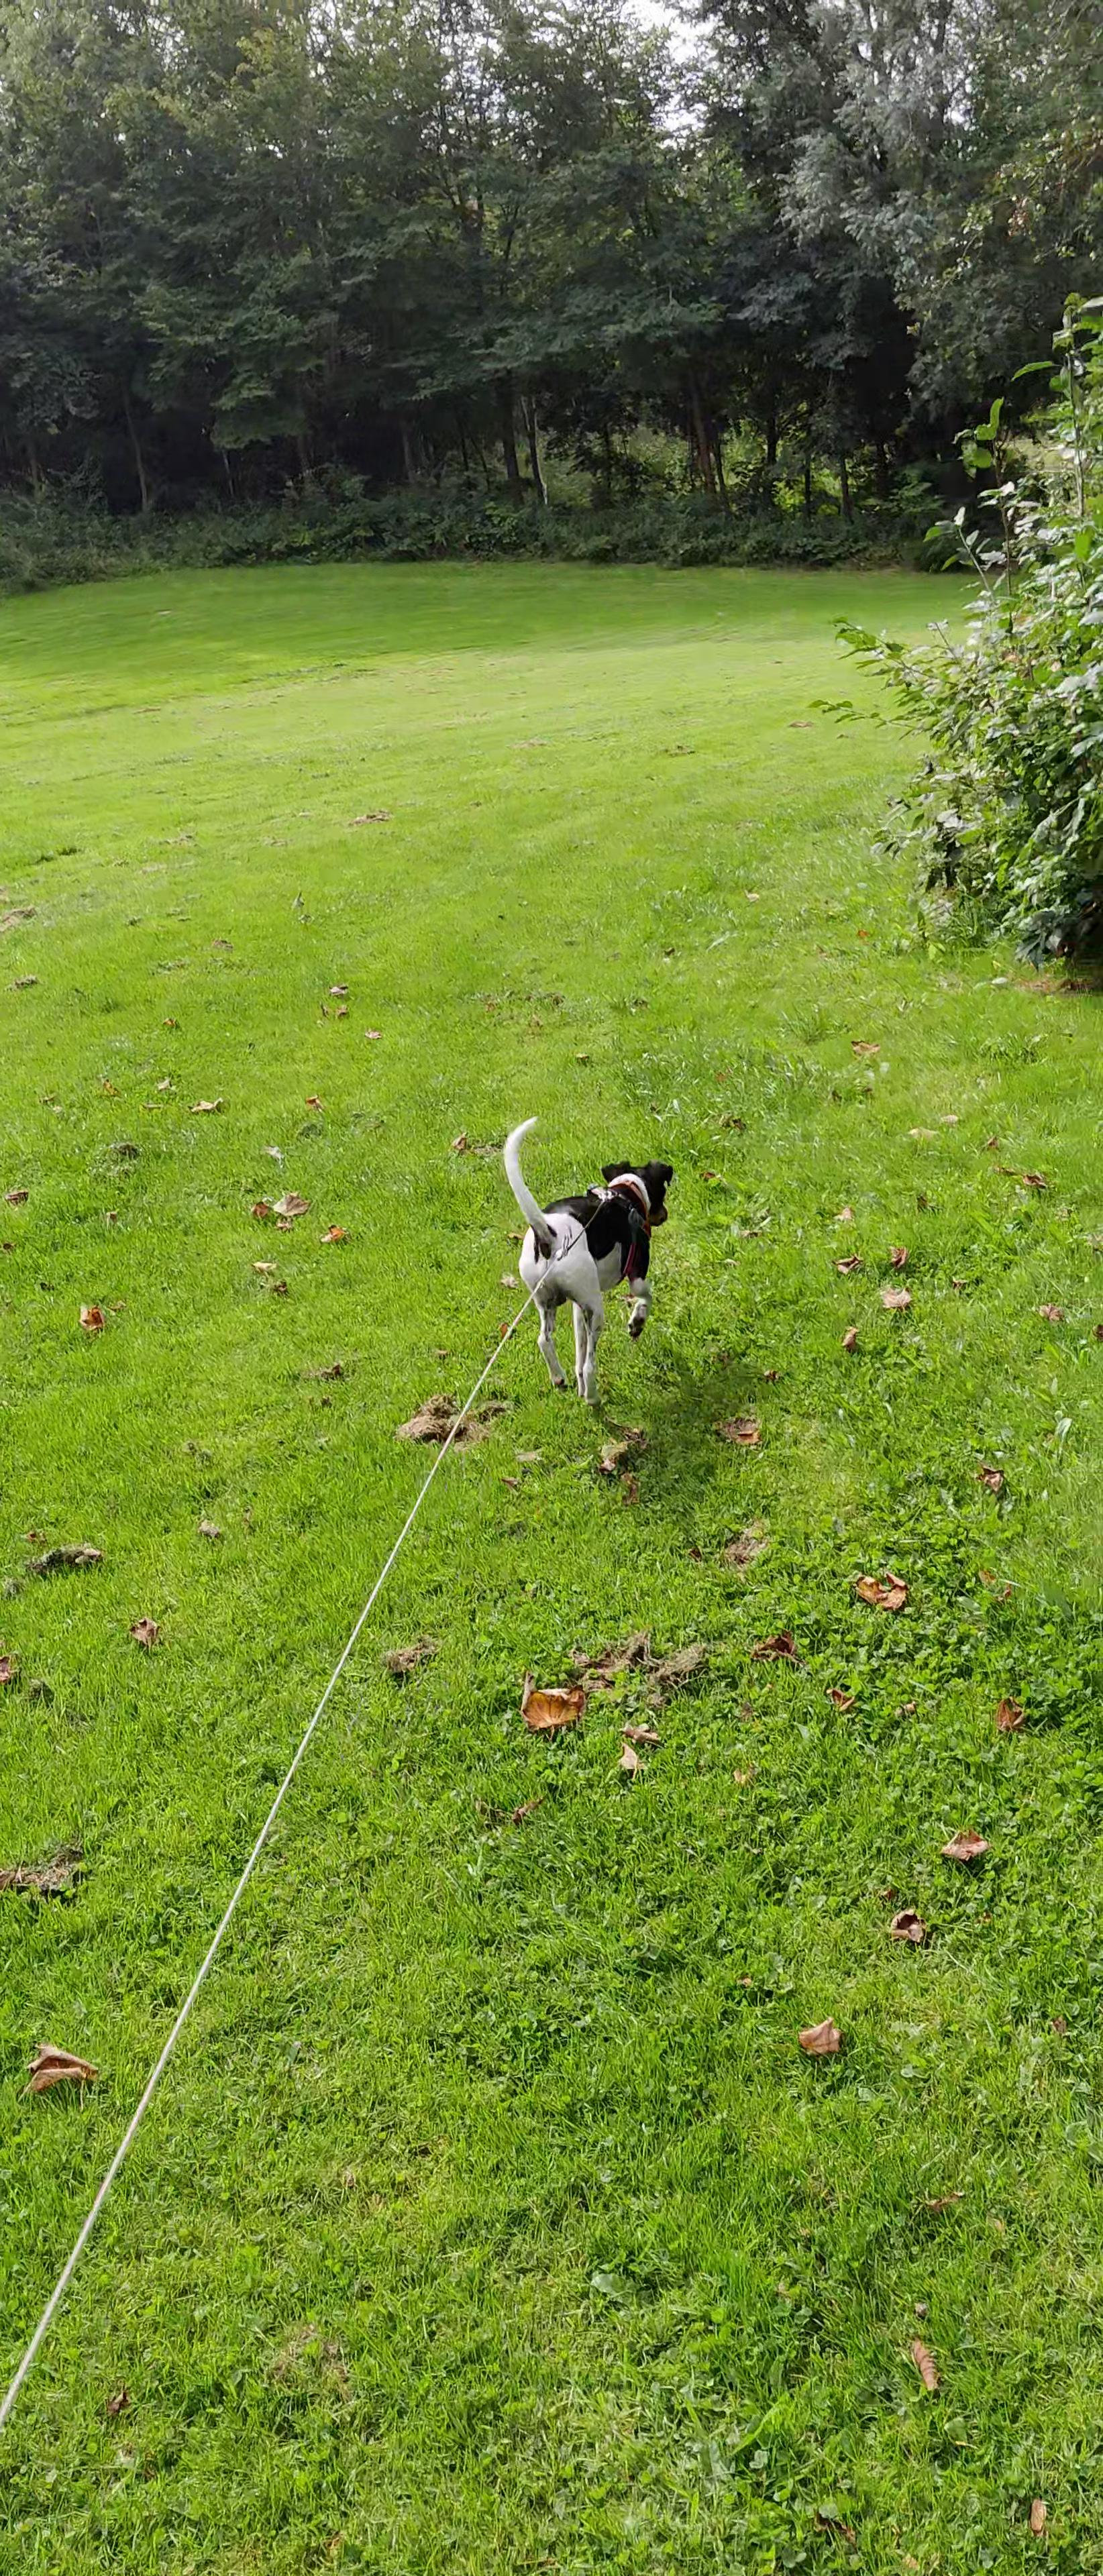Dog: (485, 1104, 684, 1418)
